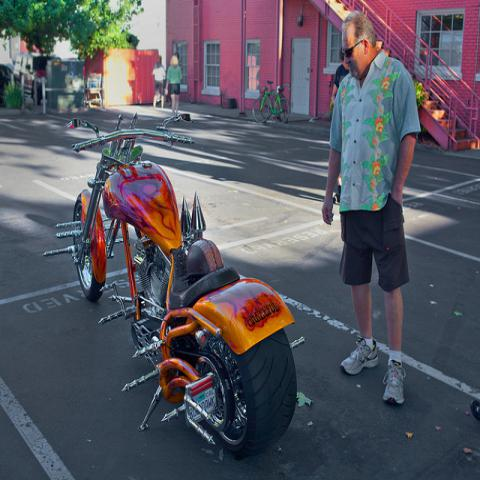car: (1, 63, 44, 106)
motorcycle: (42, 112, 294, 462)
